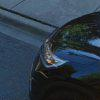Car: (24, 14, 100, 100)
